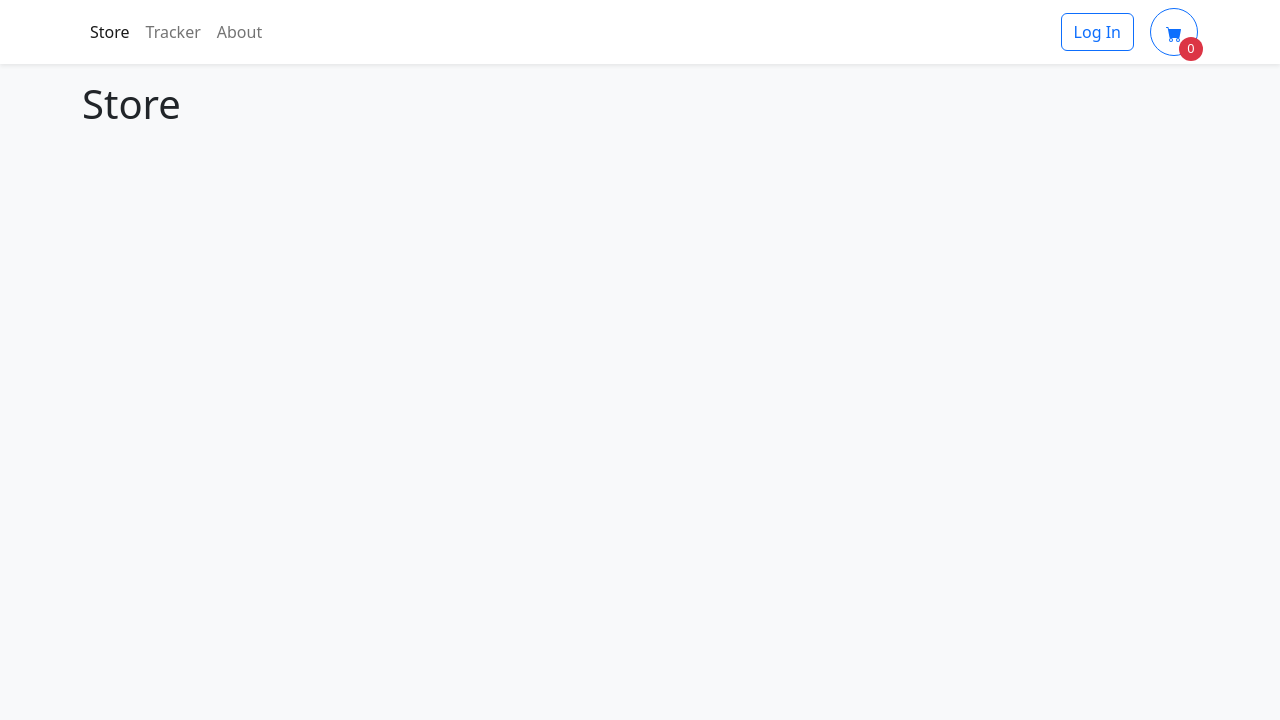
Tracker Modal window › show operation modal after click 'Add operation'
Click the link "Tracker": coordinates (173, 32) [146, 21, 201, 43]
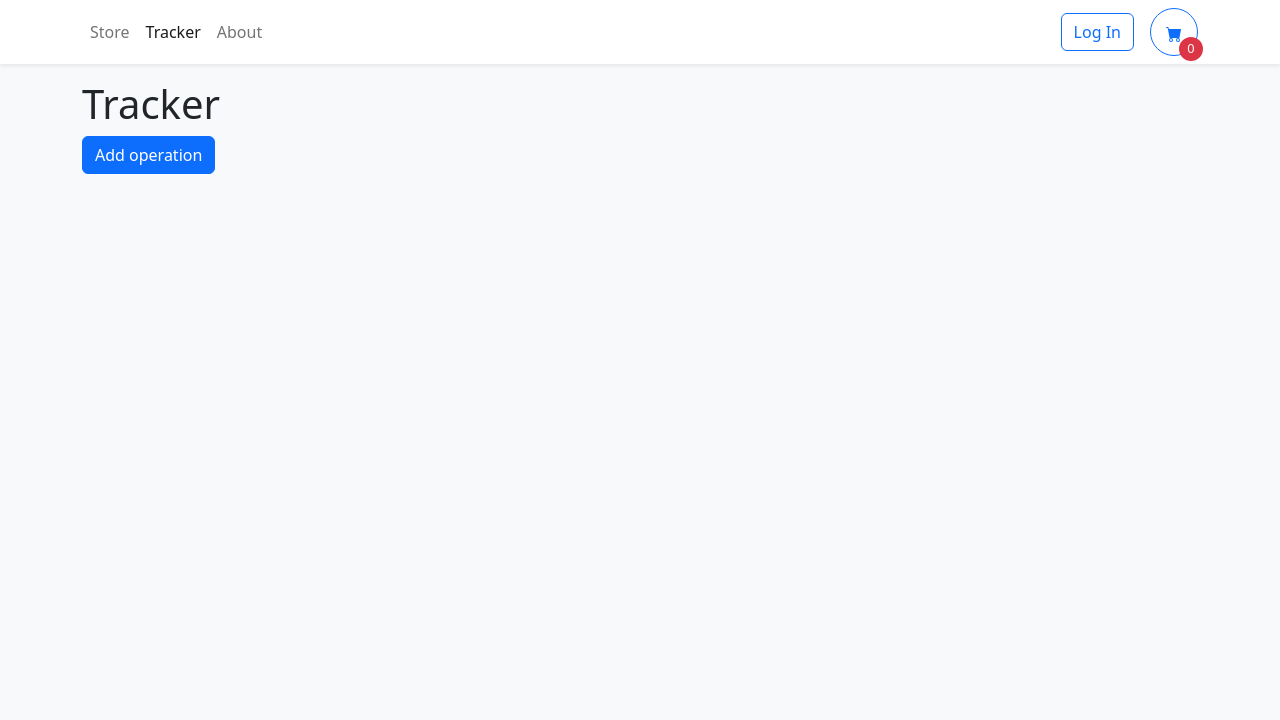
Click the button "Add operation": coordinates (149, 155) [82, 136, 215, 174]
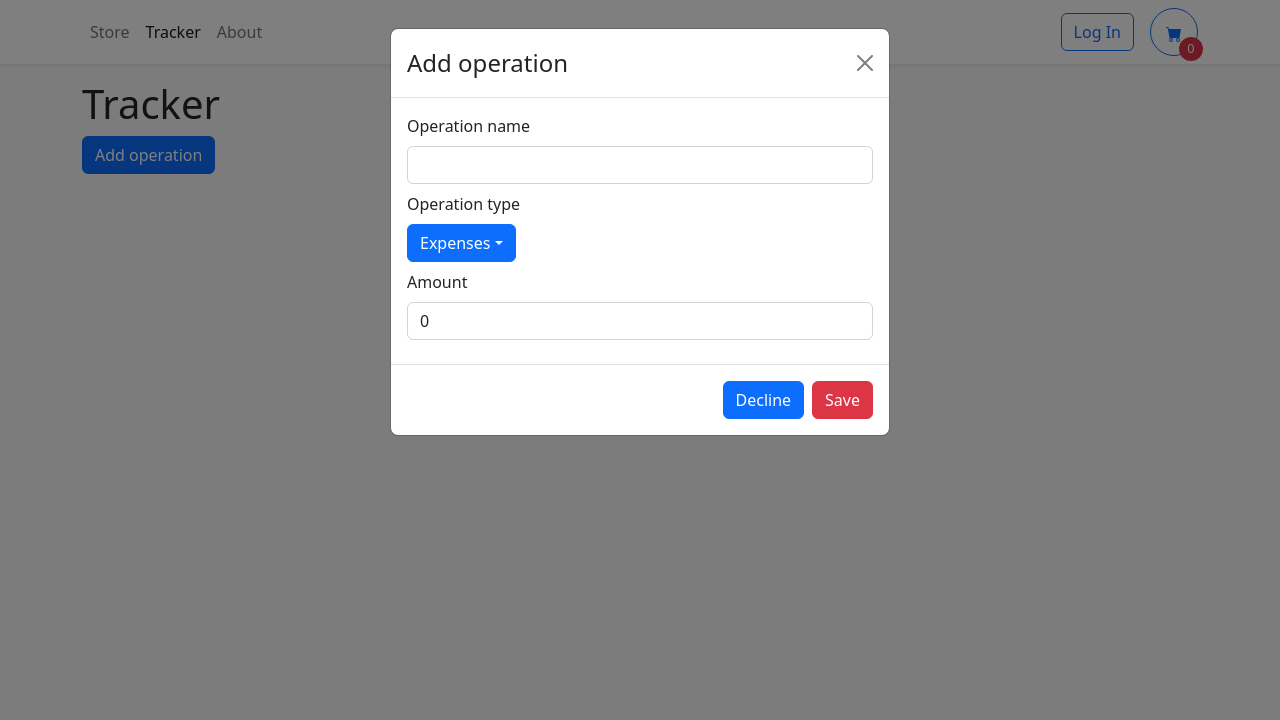
Expected: the form with test id "operation-form" is shown, [407, 114, 873, 340]
